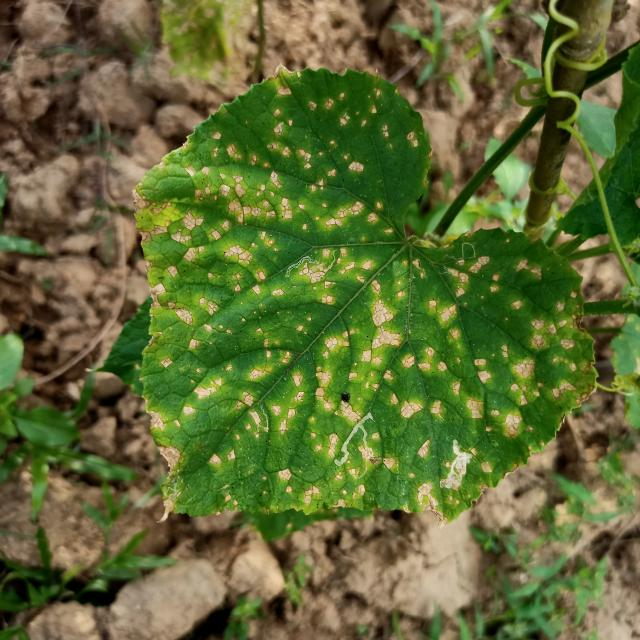disease_cucumber: (154, 92, 572, 514)
